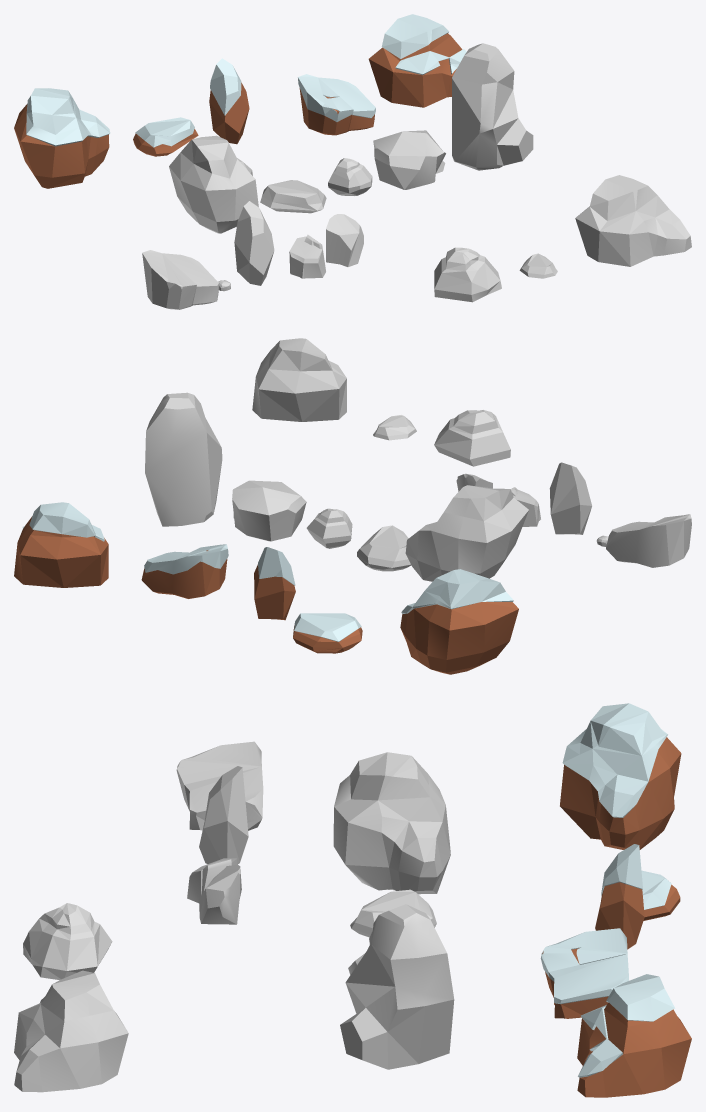
The model's file is rock.FBX.
3 views of the same model, one above another, from view 1: azimuth 30°, elevation 25°; view 2: azimuth 150°, elevation 25°; view 3: azimuth 270°, elevation 25° (orthographic). The views are drawn at different scales.
Visible parts, largest first — view 1: rock9, rock1, rock016, rock020, rock4, rock019, rock14, rock8, rock2, rock017, rock10, rock018 (+5 smaller); view 2: rock016, rock9, rock4, rock020, rock1, rock8, rock019, rock14, rock2, rock017, rock10, rock018 (+4 smaller); view 3: rock9, rock4, rock016, rock020, rock1, rock019, rock2, rock14, rock10, rock017, rock11, rock5 (+2 smaller).
Part boxes in pixels (x1,y1,x2,y2): rock9: (452,43,533,170); rock1: (575,175,691,266); rock016: (14,88,110,188); rock020: (368,14,466,107); rock4: (169,135,258,233); rock019: (298,74,375,135); rock14: (142,250,219,309); rock8: (373,130,445,189); rock2: (434,247,501,302); rock017: (209,58,249,144); rock10: (234,201,274,285); rock018: (133,117,198,156); rock016: (400,569,518,674); rock9: (145,392,222,526); rock4: (405,485,528,581); rock020: (14,502,108,587); rock1: (252,338,346,421); rock8: (232,480,306,541); rock019: (141,544,228,598); rock14: (606,514,691,567); rock2: (434,410,510,466); rock017: (254,547,295,620); rock10: (549,462,591,534); rock018: (293,613,362,653); rock9: (340,904,454,1069); rock4: (333,752,450,894); rock016: (560,703,681,849); rock020: (577,974,691,1097); rock1: (14,970,128,1092); rock019: (540,928,628,1018); rock2: (23,903,112,980); rock14: (176,741,263,830); rock10: (199,766,248,864); rock017: (595,844,644,949); rock11: (199,864,241,924); rock5: (350,889,436,937).
Bounding box in the file's own units: 121 × 27.35 × 115.
